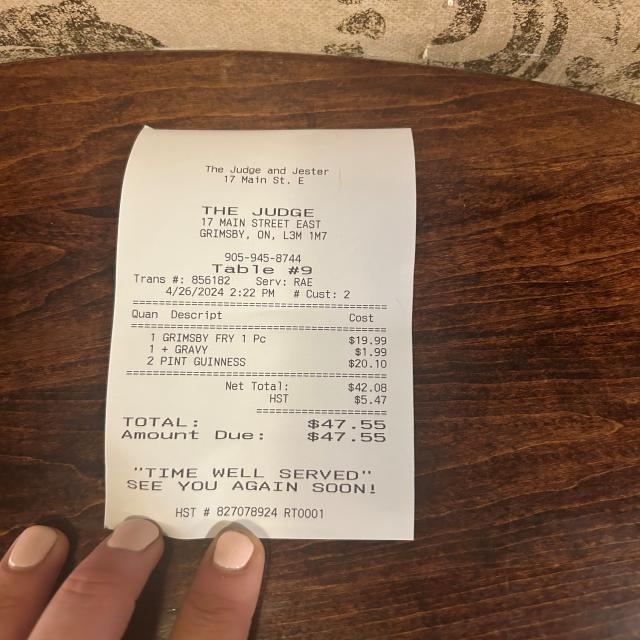item: (157, 355, 390, 373), (158, 342, 392, 359), (158, 330, 392, 346)
store_name: (196, 202, 324, 222)
total_amount: (122, 412, 389, 432)
transaction_date: (162, 283, 227, 301)
